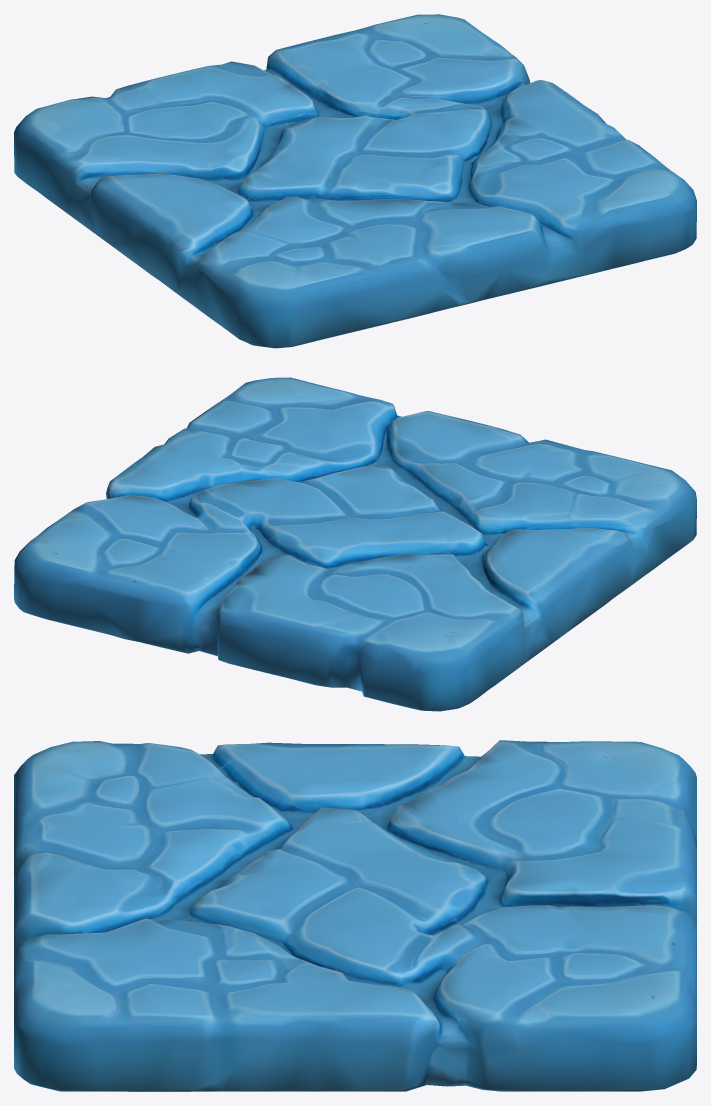
The model's file is t_Tile_Ice.glb.
3 views of the same model, one above another, from view 1: azimuth 30°, elevation 25°; view 2: azimuth 150°, elevation 25°; view 3: azimuth 270°, elevation 25° (orthographic). The views are drawn at different scales.
Parts seen in each view (by area): view 1: Mesh1.0; view 2: Mesh1.0; view 3: Mesh1.0.
Boxes of the visible parts, <box> form: Mesh1.0: <box>14,14,696,348</box>; Mesh1.0: <box>14,377,696,711</box>; Mesh1.0: <box>14,740,696,1091</box>.
Size of the model in its own units: 1.92 by 0.2182 by 1.92.
Materials: 1 (1 with a texture image).
